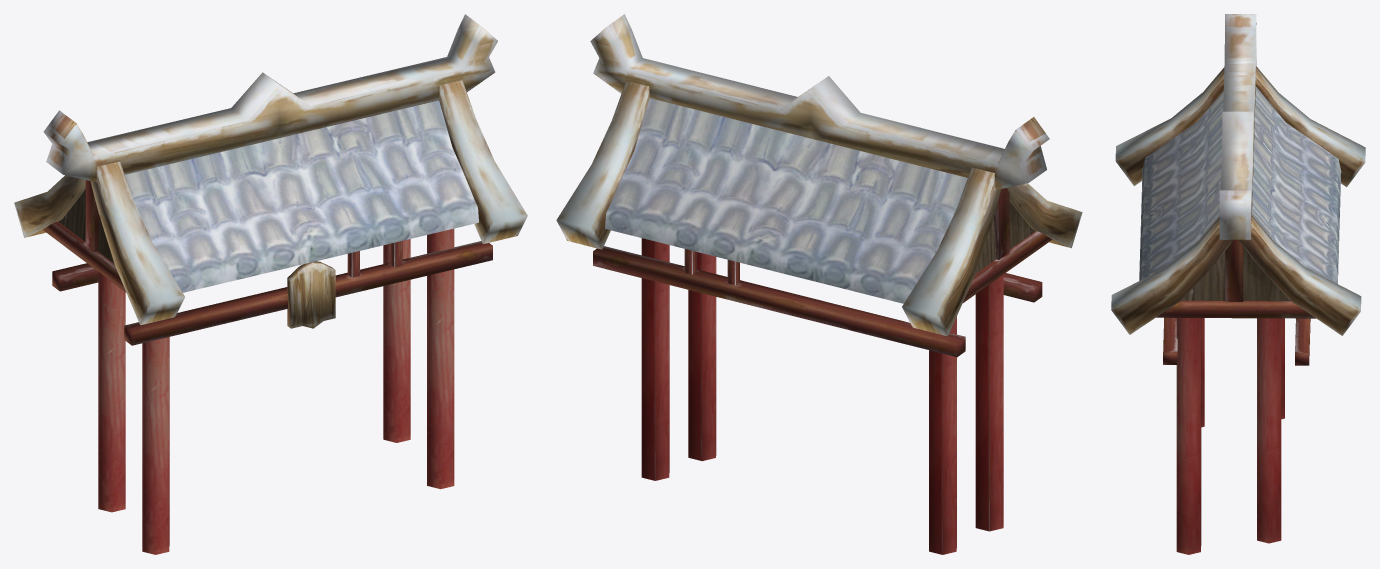
Rendered from SM_House_08.fbx.
3 views of the same model, side by side, from view 1: azimuth 30°, elevation 25°; view 2: azimuth 150°, elevation 25°; view 3: azimuth 270°, elevation 25° (orthographic). The views are drawn at different scales.
Parts seen in each view (by area): view 1: SM_House_08; view 2: SM_House_08; view 3: SM_House_08.
Part boxes in pixels (<box>): SM_House_08: <box>14,14,527,554</box>; SM_House_08: <box>556,14,1082,554</box>; SM_House_08: <box>1111,14,1365,554</box>.
Size of the model in its own units: 3.75 by 3.53 by 2.12.
